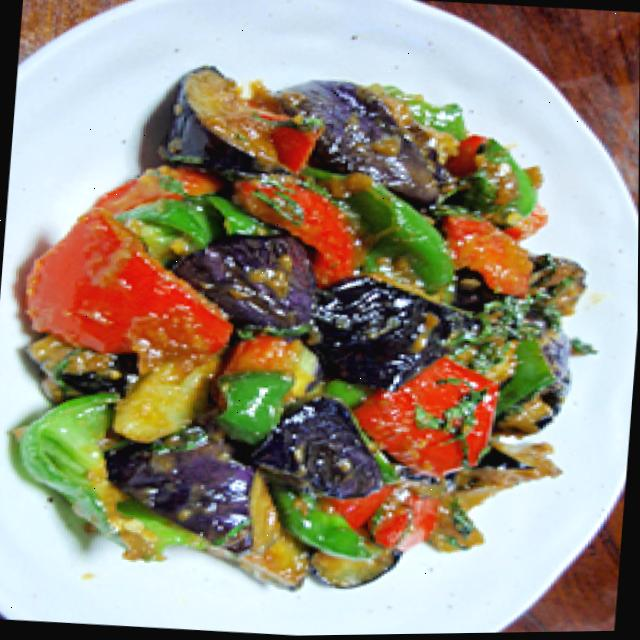鸡蛋料理: (0, 46, 611, 618)
